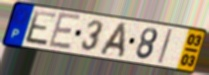3: (80, 19, 104, 52)
8: (136, 27, 159, 61)
A: (97, 21, 127, 60)
E: (46, 11, 82, 51), (24, 9, 58, 48)
I: (157, 28, 174, 65)
